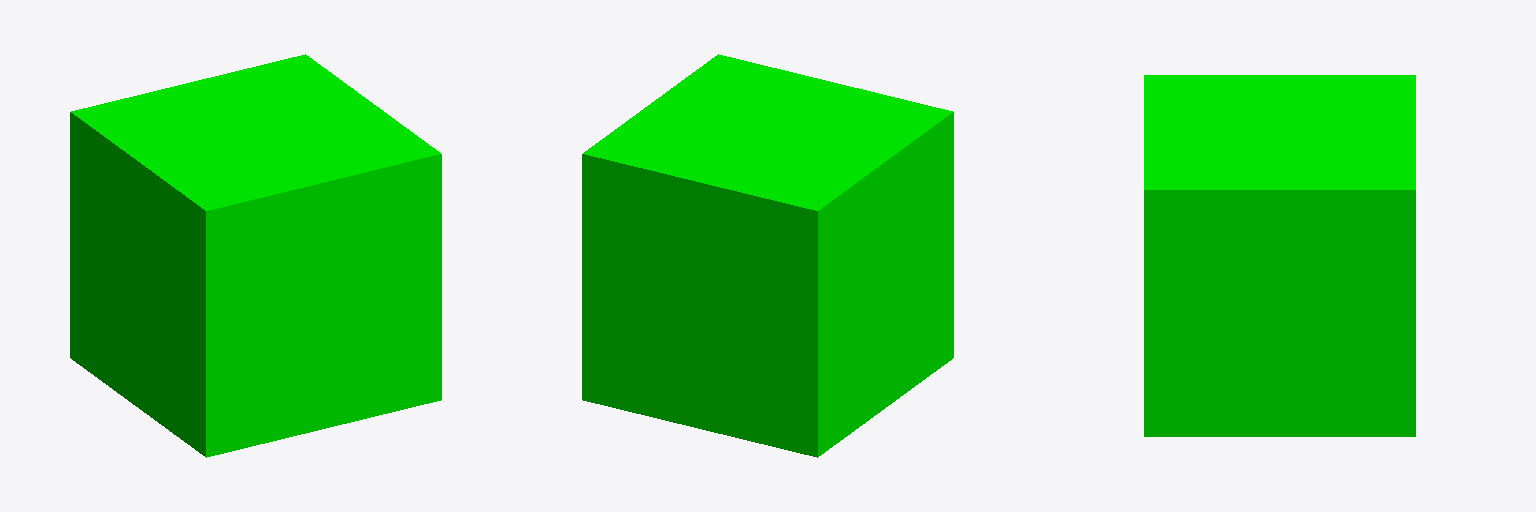
3 views of the same model, side by side, from view 1: azimuth 30°, elevation 25°; view 2: azimuth 150°, elevation 25°; view 3: azimuth 270°, elevation 25° (orthographic).
Visible parts, largest first — view 1: pCube1; view 2: pCube1; view 3: pCube1.
Part boxes in pixels (left/top/right/bottom): pCube1: left=70, top=54, right=441, bottom=457; pCube1: left=582, top=54, right=953, bottom=457; pCube1: left=1144, top=75, right=1415, bottom=436.
Size of the model in its own units: 10 by 10 by 10.
Materials: 1 (1 with a texture image).